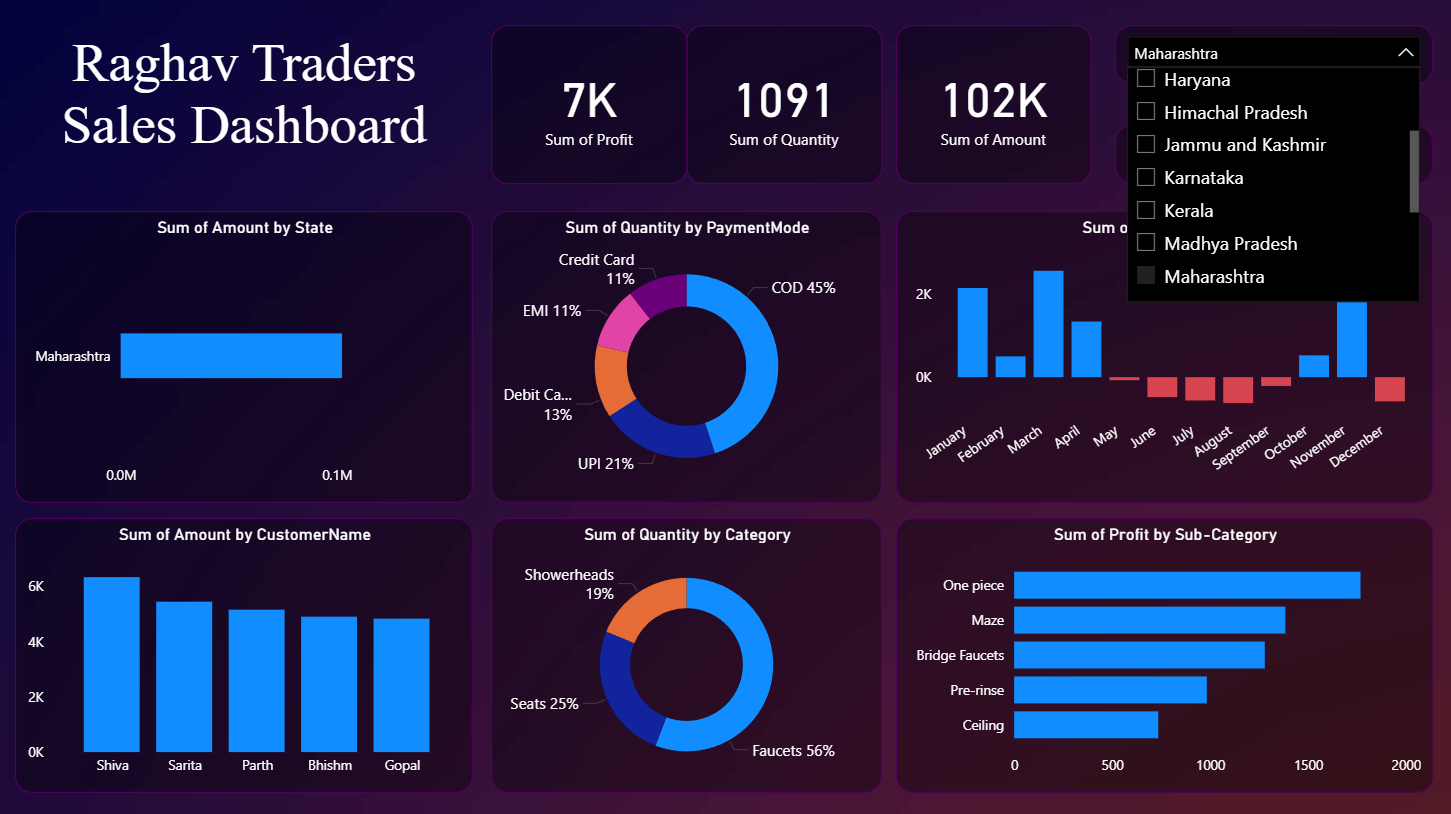

The dashboard page shown, as its layout file describes it:
{"tool":"powerbi","page":{"name":"Page 1","canvas":[1280,720],"ordinal":0},"visuals":[{"type":"textbox","box":[14.1,23.8,403.1,176],"z":0},{"type":"columnChart","fields":{"Category":["Orders.Order Date.Variation.Date Hierarchy.Month"],"Y":["Details.Profit"]},"box":[789.5,187.5,472.7,257],"z":1000},{"type":"barChart","fields":{"Category":["Details.Sub-Category"],"Y":["Details.Profit"]},"box":[789.5,457.7,472.7,242.1],"z":2000},{"type":"card","fields":{"Values":["Details.Amount"]},"box":[789.5,23.8,171.6,140],"z":3000},{"type":"donutChart","fields":{"Category":["Details.PaymentMode"],"Y":["Details.Quantity"]},"box":[433.1,187.5,344.2,257],"z":4000},{"type":"card","fields":{"Values":["Details.Quantity"]},"box":[604.7,23.8,172.5,140],"z":5000},{"type":"card","fields":{"Values":["Details.Profit"]},"box":[433.1,23.8,172.5,140],"z":6000},{"type":"barChart","fields":{"Category":["Orders.State"],"Y":["Details.Amount"]},"box":[14.1,187.5,403.1,257],"z":8000},{"type":"donutChart","fields":{"Y":["Details.Quantity"],"Category":["Details.Category"]},"box":[433.1,457.7,344.2,242.1],"z":9000},{"type":"columnChart","fields":{"Category":["Orders.CustomerName"],"Y":["Details.Amount"]},"box":[14.1,457.7,403.1,242.1],"z":10000},{"type":"slicer","fields":{"Values":["Orders.Order Date.Variation.Date Hierarchy.Quarter"]},"box":[982.3,111.8,279.9,51.9],"z":11000},{"type":"slicer","fields":{"Values":["Orders.State"]},"box":[982.3,23.8,279.9,51.9],"z":12000}]}

Visuals, with their boxes in screenshot pixels (x1, y1, x2, y2), scaled from the page's 1280x720 canvas onto the 1451x814 screenshot:
textbox: x1=16 y1=27 x2=473 y2=226
columnChart - Orders.Order Date.Variation.Date Hierarchy.Month x Details.Profit: x1=895 y1=212 x2=1431 y2=503
barChart - Details.Sub-Category x Details.Profit: x1=895 y1=517 x2=1431 y2=791
card - Details.Amount: x1=895 y1=27 x2=1089 y2=185
donutChart - Details.PaymentMode x Details.Quantity: x1=491 y1=212 x2=881 y2=503
card - Details.Quantity: x1=685 y1=27 x2=881 y2=185
card - Details.Profit: x1=491 y1=27 x2=687 y2=185
barChart - Orders.State x Details.Amount: x1=16 y1=212 x2=473 y2=503
donutChart - Details.Quantity x Details.Category: x1=491 y1=517 x2=881 y2=791
columnChart - Orders.CustomerName x Details.Amount: x1=16 y1=517 x2=473 y2=791
slicer - Orders.Order Date.Variation.Date Hierarchy.Quarter: x1=1114 y1=126 x2=1431 y2=185
slicer - Orders.State: x1=1114 y1=27 x2=1431 y2=86
